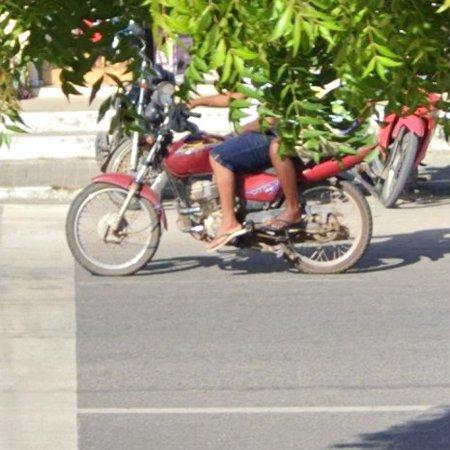motorcycles: (66, 121, 225, 276), (240, 154, 373, 274), (362, 94, 442, 208)
